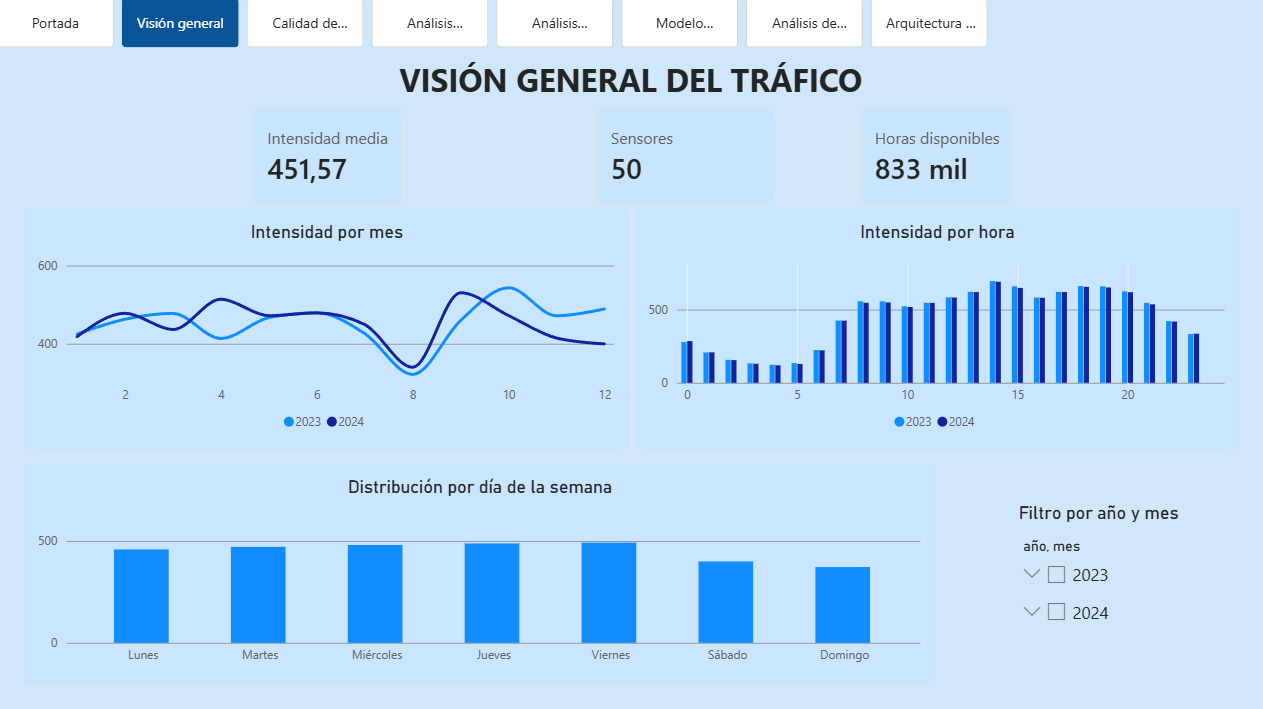

The dashboard page shown, as its layout file describes it:
{"tool":"powerbi","page":{"name":"Visión general","canvas":[1280,720],"ordinal":1},"visuals":[{"type":"pageNavigator","box":[0,0,1000,50],"z":0},{"type":"textbox","box":[0,60.6,1279.5,50],"z":1000},{"type":"cardVisual","fields":{"Data":["trafico_temporal_powerbi.Intensidad media"]},"box":[255.9,110.5,154.4,99.9],"z":2000},{"type":"cardVisual","fields":{"Data":["trafico_temporal_powerbi.Sensores"]},"box":[602.7,110.5,184.7,99.9],"z":3000},{"type":"cardVisual","fields":{"Data":["trafico_temporal_powerbi.Horas disponibles"]},"box":[869.2,110.5,159,99.9],"z":4000},{"type":"lineChart","title":"Intensidad por mes","fields":{"Category":["trafico_temporal_powerbi.mes"],"Series":["trafico_temporal_powerbi.año"],"Y":["trafico_temporal_powerbi.Intensidad media"]},"box":[24.2,210.5,616.3,248.3],"z":5000},{"type":"clusteredColumnChart","title":"Intensidad por hora","fields":{"Category":["trafico_temporal_powerbi.hora"],"Series":["trafico_temporal_powerbi.año"],"Y":["trafico_temporal_powerbi.Intensidad media"]},"box":[640.5,210.5,616.3,248.3],"z":6000},{"type":"clusteredColumnChart","title":"Distribución por día de la semana","fields":{"Category":["trafico_temporal_powerbi.Nombre día"],"Y":["trafico_temporal_powerbi.Intensidad media"]},"box":[23.9,467.8,925.4,225.4],"z":7000},{"type":"slicer","title":"Filtro por año y mes","fields":{"Values":["trafico_temporal_powerbi.año","trafico_temporal_powerbi.mes"]},"box":[1027.9,508.8,168.1,142.3],"z":8000}]}

Visuals, with their boxes on the page's 1280x720 design canvas (x1, y1, x2, y2). These are canvas units, not pixel positions in the 1263x709 screenshot, which may show the page scaled, cropped or inside an application window:
pageNavigator: locate(0, 0, 1000, 50)
textbox: locate(0, 61, 1280, 111)
cardVisual - trafico_temporal_powerbi.Intensidad media: locate(256, 110, 410, 210)
cardVisual - trafico_temporal_powerbi.Sensores: locate(603, 110, 787, 210)
cardVisual - trafico_temporal_powerbi.Horas disponibles: locate(869, 110, 1028, 210)
"Intensidad por mes" lineChart: locate(24, 210, 640, 459)
"Intensidad por hora" clusteredColumnChart: locate(640, 210, 1257, 459)
"Distribución por día de la semana" clusteredColumnChart: locate(24, 468, 949, 693)
"Filtro por año y mes" slicer: locate(1028, 509, 1196, 651)
